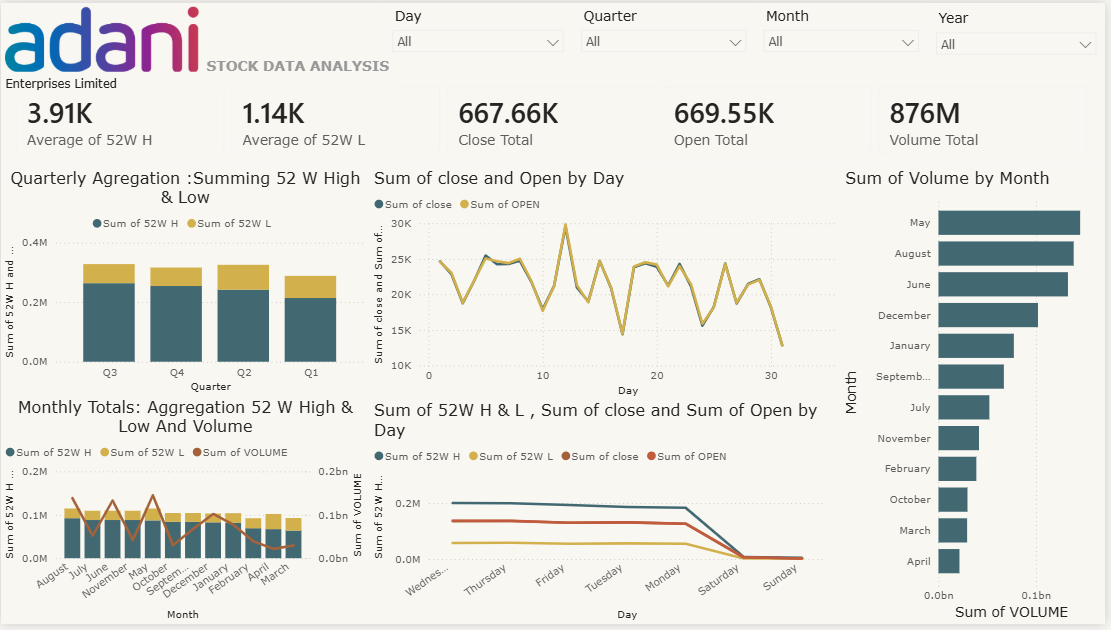

This screenshot's page, from the dashboard's own definition file:
{"tool":"powerbi","page":{"name":"Page 1","canvas":[1280,720],"ordinal":0},"visuals":[{"type":"slicer","fields":{"Values":["ADANI ENTERPRISES LIMITED.Month"]},"box":[873.9,0,200,79.7],"z":0},{"type":"slicer","fields":{"Values":["ADANI ENTERPRISES LIMITED.Day"]},"box":[443.5,0,218.8,84.1],"z":1000},{"type":"slicer","fields":{"Values":["ADANI ENTERPRISES LIMITED.Year"]},"box":[1073.9,2.9,205.8,76.8],"z":2000},{"type":"slicer","fields":{"Values":["ADANI ENTERPRISES LIMITED.Quarter"]},"box":[662.3,0,211.6,84.1],"z":3000},{"type":"cardVisual","fields":{"Data":["Avg(ADANI ENTERPRISES LIMITED.52W H )","Avg(ADANI ENTERPRISES LIMITED.52W L )","Sum(ADANI ENTERPRISES LIMITED.close )","Sum(ADANI ENTERPRISES LIMITED.OPEN )","Sum(ADANI ENTERPRISES LIMITED.VOLUME )"]},"box":[0,79.7,1279.7,111.6],"z":4000},{"type":"columnChart","title":"Quarterly Agregation :Summing  52 W High & Low","fields":{"Y":["Sum(ADANI ENTERPRISES LIMITED.52W H )","Sum(ADANI ENTERPRISES LIMITED.52W L )"],"Category":["ADANI ENTERPRISES LIMITED.Quarter"]},"box":[0,191.3,427.5,265.2],"z":5000},{"type":"lineStackedColumnComboChart","title":"Monthly Totals: Aggregation 52 W High & Low And Volume","fields":{"Y":["Sum(ADANI ENTERPRISES LIMITED.52W H )","Sum(ADANI ENTERPRISES LIMITED.52W L )"],"Category":["ADANI ENTERPRISES LIMITED.Month"],"Y2":["Sum(ADANI ENTERPRISES LIMITED.VOLUME )"]},"box":[0,456.5,427.5,263.8],"z":6000},{"type":"lineChart","title":"Sum of close  and  Open  by Day","fields":{"Category":["ADANI ENTERPRISES LIMITED.Date .Variation.Date Hierarchy.Day"],"Y":["Sum(ADANI ENTERPRISES LIMITED.close )","Sum(ADANI ENTERPRISES LIMITED.OPEN )"]},"box":[427.5,191.3,546.4,269.6],"z":7000},{"type":"lineChart","title":"Sum of 52W H & L , Sum of close  and Sum of Open by Day","fields":{"Y":["Sum(ADANI ENTERPRISES LIMITED.52W H )","Sum(ADANI ENTERPRISES LIMITED.52W L )","Sum(ADANI ENTERPRISES LIMITED.close )","Sum(ADANI ENTERPRISES LIMITED.OPEN )"],"Category":["ADANI ENTERPRISES LIMITED.Day"]},"box":[427.5,460.9,533.3,259.4],"z":8000},{"type":"clusteredBarChart","title":"Sum of Volume by Month","fields":{"Y":["Sum(ADANI ENTERPRISES LIMITED.VOLUME )"],"Category":["ADANI ENTERPRISES LIMITED.Month"]},"box":[973.9,191.3,305.8,529],"z":8001},{"type":"image","box":[0,2.9,233.3,79.7],"z":8002},{"type":"textbox","box":[233.3,58,231.9,43.5],"z":8003},{"type":"textbox","box":[0,79.7,233.3,36.2],"z":8004}]}

Visuals, with their boxes in screenshot pixels (x1, y1, x2, y2), scaled from the page's 1280x720 canvas onto the 1111x630 screenshot:
slicer - ADANI ENTERPRISES LIMITED.Month: BBox(759, 0, 932, 70)
slicer - ADANI ENTERPRISES LIMITED.Day: BBox(385, 0, 575, 74)
slicer - ADANI ENTERPRISES LIMITED.Year: BBox(932, 3, 1110, 70)
slicer - ADANI ENTERPRISES LIMITED.Quarter: BBox(575, 0, 759, 74)
cardVisual - Avg(ADANI ENTERPRISES LIMITED.52W H ) x Avg(ADANI ENTERPRISES LIMITED.52W L ): BBox(0, 70, 1110, 167)
"Quarterly Agregation :Summing  52 W High & Low" columnChart: BBox(0, 167, 371, 399)
"Monthly Totals: Aggregation 52 W High & Low And Volume" lineStackedColumnComboChart: BBox(0, 399, 371, 629)
"Sum of close  and  Open  by Day" lineChart: BBox(371, 167, 845, 403)
"Sum of 52W H & L , Sum of close  and Sum of Open by Day" lineChart: BBox(371, 403, 834, 629)
"Sum of Volume by Month" clusteredBarChart: BBox(845, 167, 1110, 629)
image: BBox(0, 3, 202, 72)
textbox: BBox(202, 51, 404, 89)
textbox: BBox(0, 70, 202, 101)
